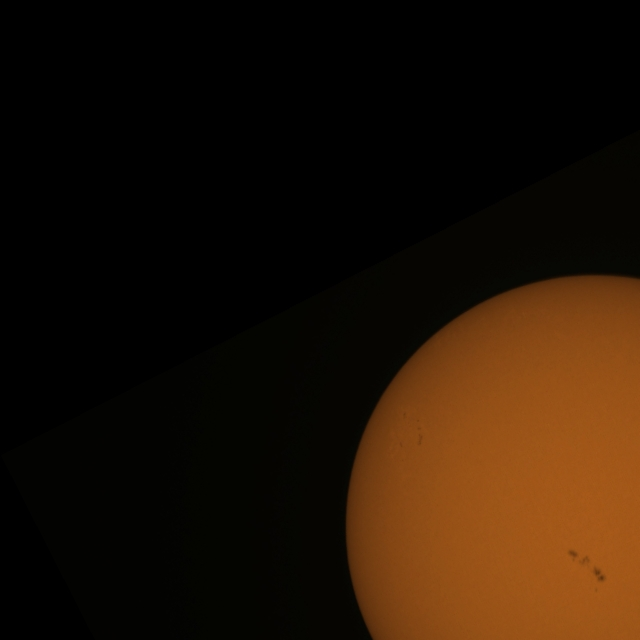sunspot: (568, 547, 608, 585), (416, 422, 424, 448)
